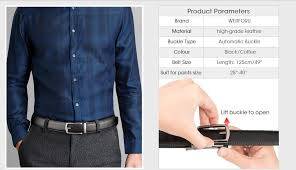F_belt: (29, 111, 121, 139)
